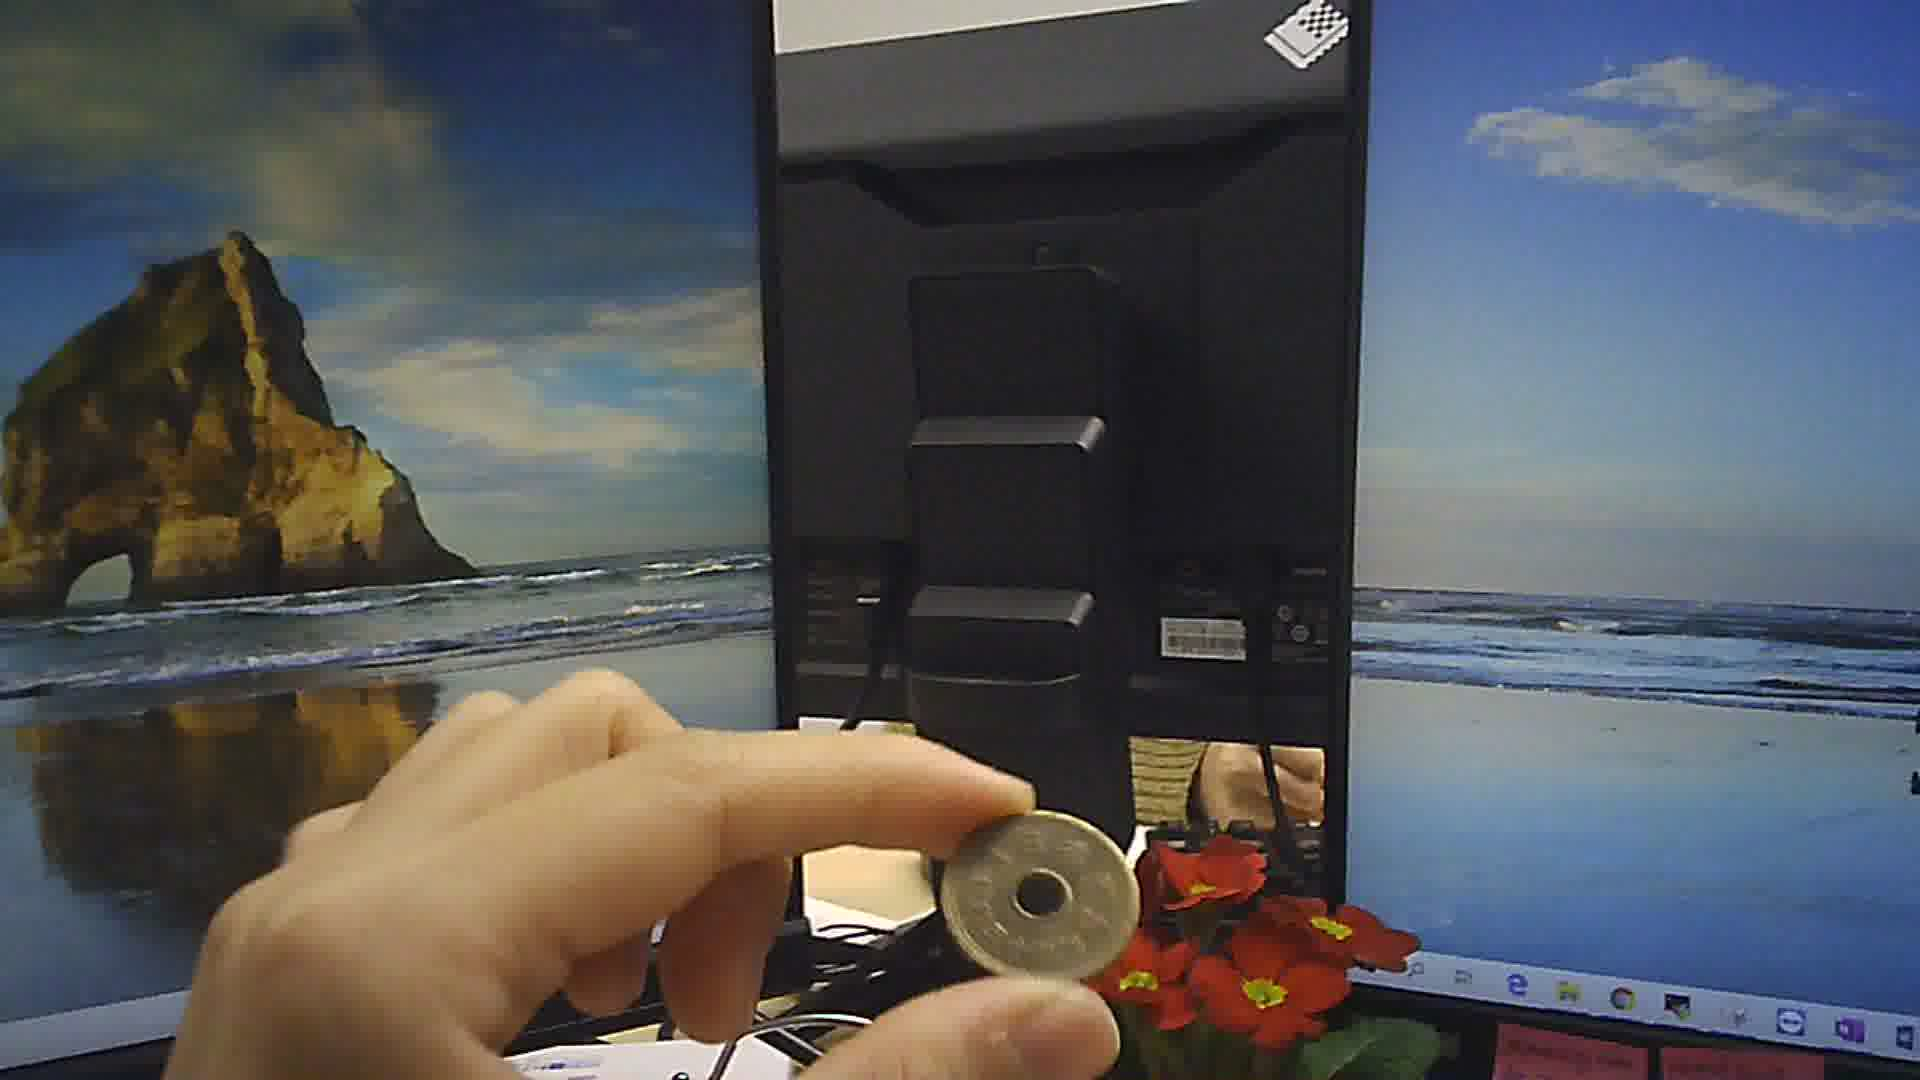5 Yen: (940, 807, 1149, 988)
